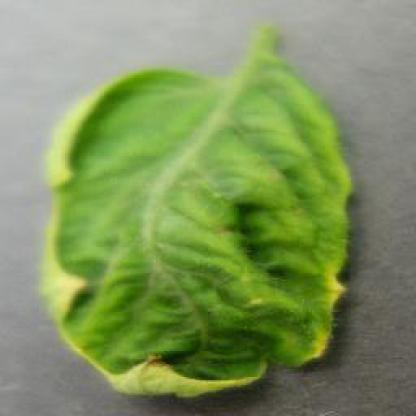good leaf: (74, 7, 372, 301), (22, 128, 304, 406), (34, 79, 328, 242), (264, 85, 412, 328)
